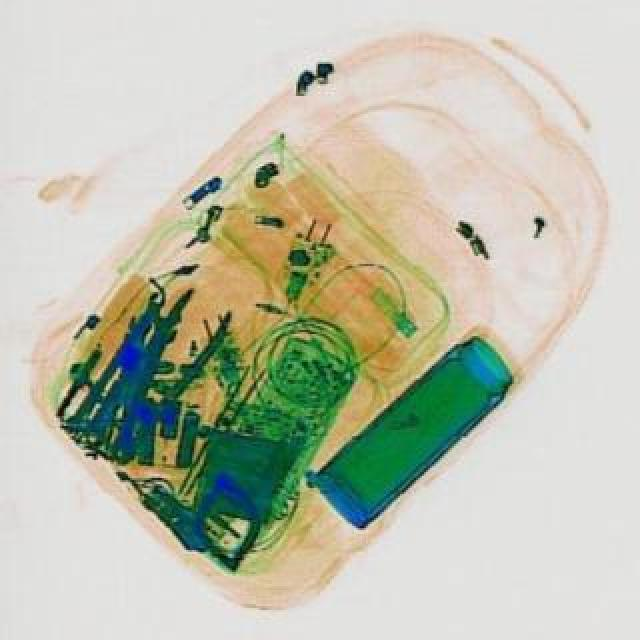scissors: (102, 310, 178, 464)
